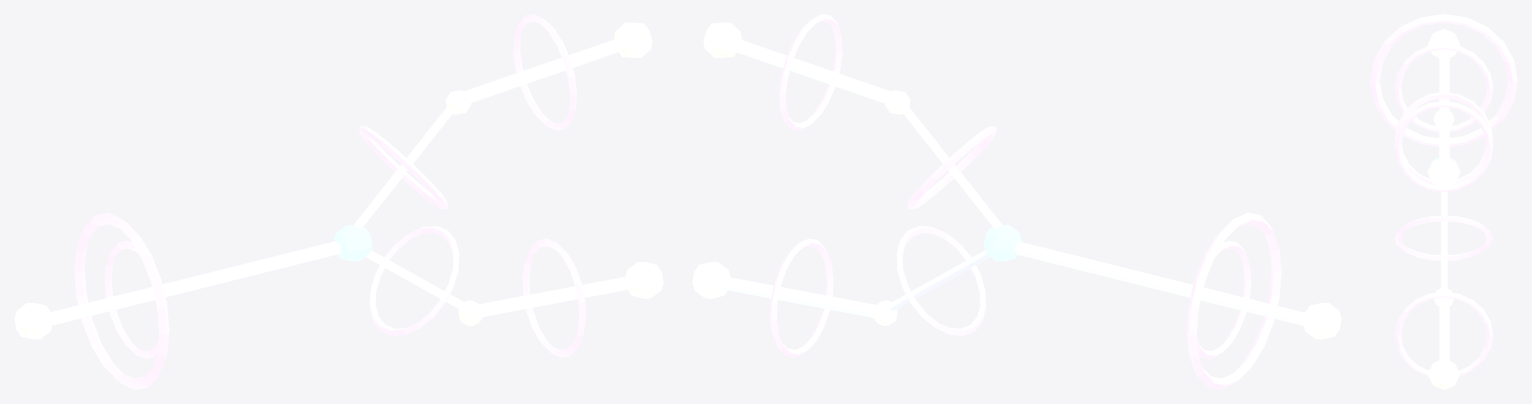
Rendered from neuron4.glb.
3 renders of one model, left to right at view 1: azimuth 30°, elevation 25°; view 2: azimuth 150°, elevation 25°; view 3: azimuth 270°, elevation 25°, orthographic. The views are drawn at different scales.
Parts seen in each view (by area): view 1: n4; view 2: n4; view 3: n4.
Part boxes in pixels (x1,y1,x2,y2): n4: [14, 14, 663, 389]; n4: [692, 14, 1341, 389]; n4: [1370, 14, 1517, 389].
Size of what is drawn, in the model's own units: 6.31 by 3.15 by 1.54.
1 material, 1 textured.
